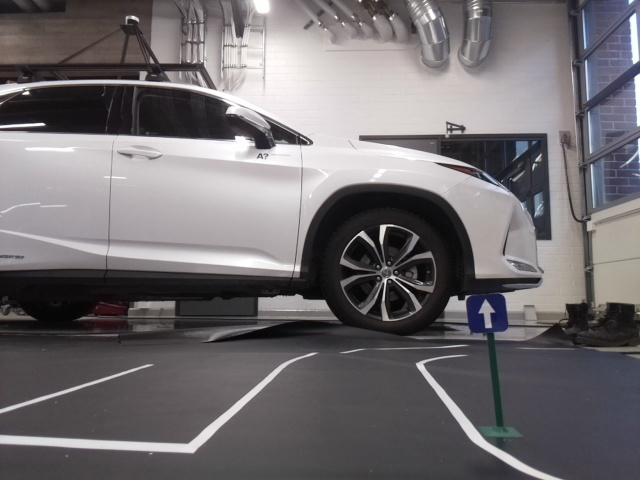OneWay: (466, 293, 508, 331)
